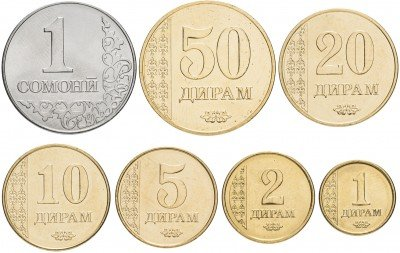coin: (137, 2, 276, 136), (3, 2, 138, 134), (279, 9, 398, 127), (2, 144, 111, 250), (114, 148, 219, 248), (221, 152, 316, 244), (319, 161, 396, 236)
